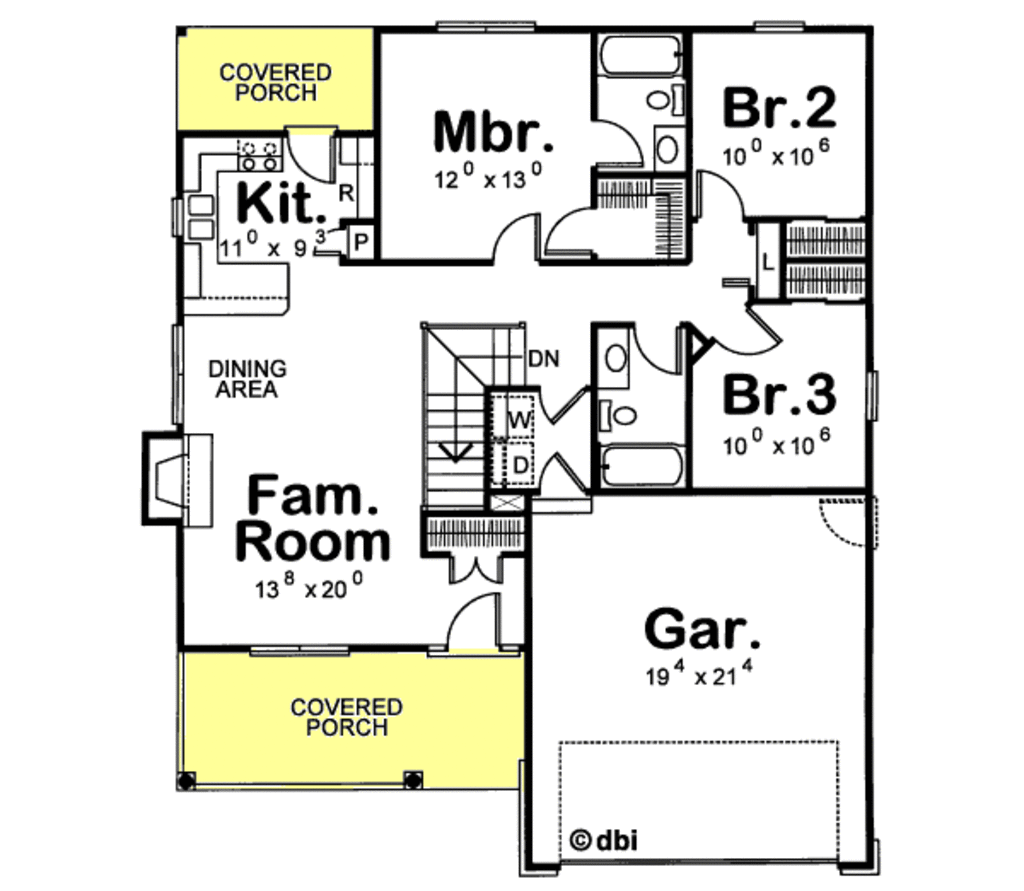door: (274, 118, 346, 195), (715, 302, 789, 358), (443, 592, 506, 651), (692, 167, 755, 221), (589, 111, 647, 169), (544, 199, 602, 255), (483, 214, 543, 265), (437, 550, 509, 587), (633, 320, 678, 377), (535, 450, 584, 498), (537, 381, 587, 426)
large_sink: (639, 80, 692, 122), (591, 391, 641, 435)
small_sink: (598, 324, 633, 388), (646, 121, 685, 173)
stairs: (420, 310, 520, 509)
tub: (596, 443, 689, 496), (602, 31, 683, 80)
twin_sink: (174, 184, 218, 244)
window: (804, 484, 887, 551), (248, 633, 363, 665), (165, 315, 192, 424), (432, 18, 546, 35), (747, 11, 809, 37), (859, 373, 888, 425), (306, 231, 350, 259)
